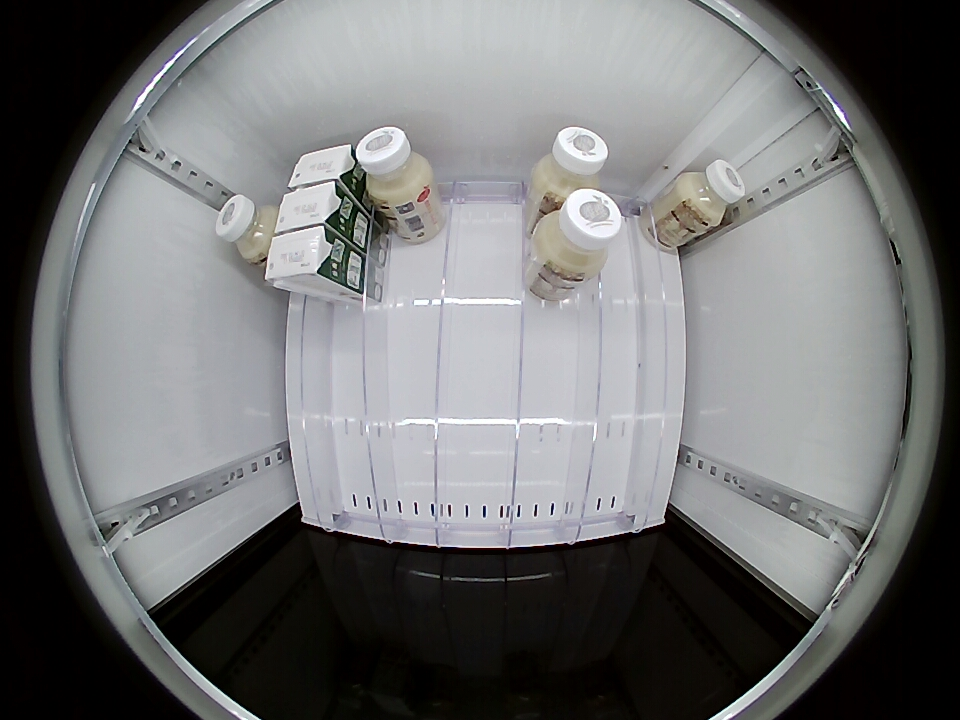jindian: (264, 225, 343, 292), (273, 182, 350, 235), (286, 143, 361, 192)
weiweidounai: (534, 188, 624, 276), (354, 126, 434, 207), (530, 126, 610, 204), (677, 159, 747, 229), (215, 195, 279, 265)
